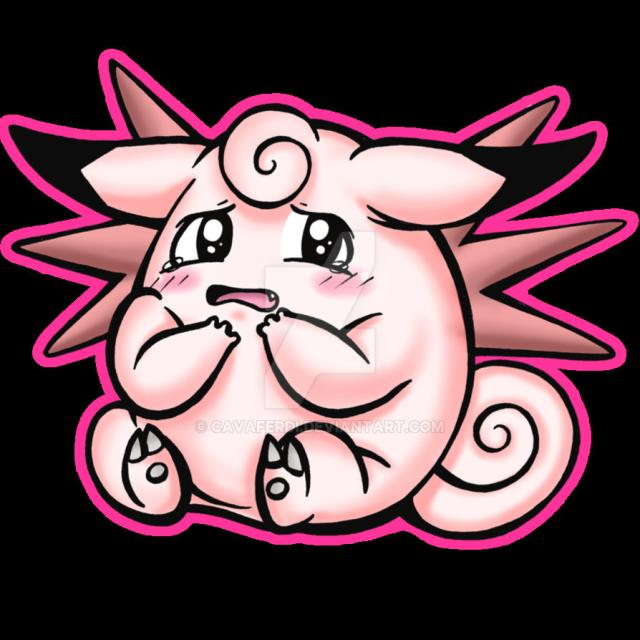Clefable: (61, 83, 584, 536)
